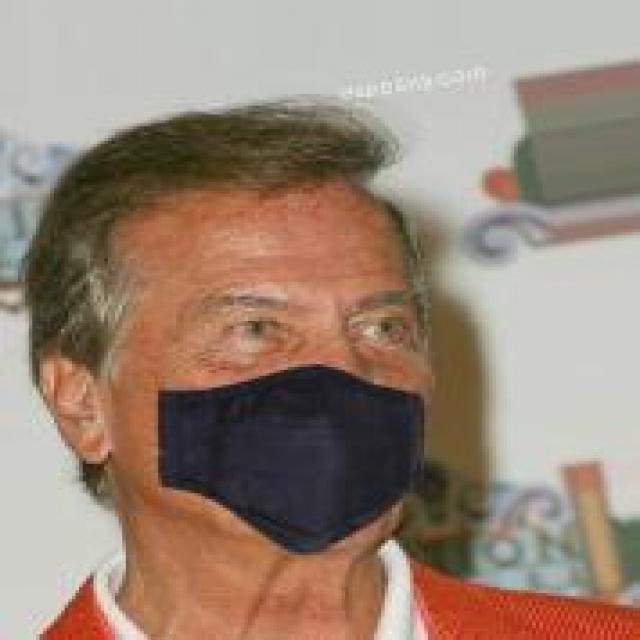mask: (54, 74, 460, 566)
